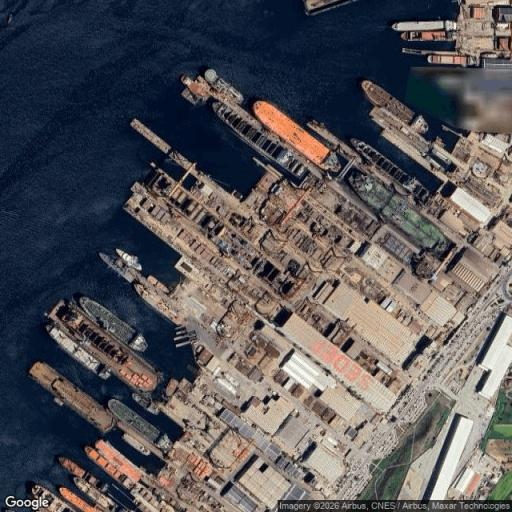ship: (48, 301, 158, 391), (349, 172, 449, 255), (212, 102, 307, 181), (253, 101, 339, 171), (29, 362, 115, 432), (351, 139, 429, 203), (79, 296, 147, 351), (46, 324, 110, 379), (108, 400, 170, 451), (362, 80, 414, 123), (135, 276, 182, 323), (84, 446, 135, 488), (95, 440, 142, 483), (74, 477, 116, 511), (204, 69, 243, 103), (99, 252, 139, 283), (31, 484, 75, 511), (59, 487, 107, 511), (304, 0, 356, 15), (392, 20, 457, 32), (428, 53, 477, 67), (58, 456, 87, 478), (122, 434, 150, 455), (116, 248, 141, 271), (401, 30, 453, 41), (132, 393, 159, 414), (166, 378, 178, 397), (54, 397, 65, 407)
